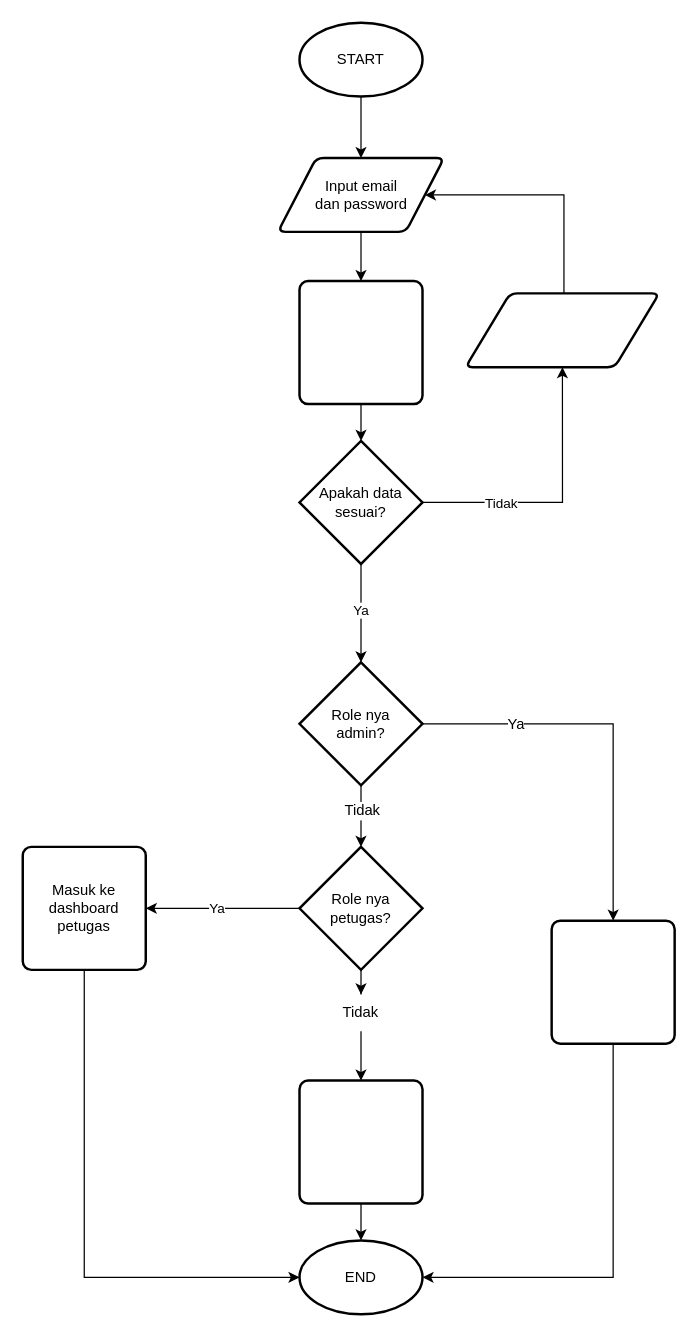
Some shapes in this 696 by 1336 pixel diagram are drawn without their labels. Each missing label, with the centre of its shape:
Masuk ke dashboard admin: the point at 612,981
Masuk ke dashboard peminjam: the point at 360,1141
Muncul pesan eror: the point at 562,330
Validasi inputan: the point at 360,342
